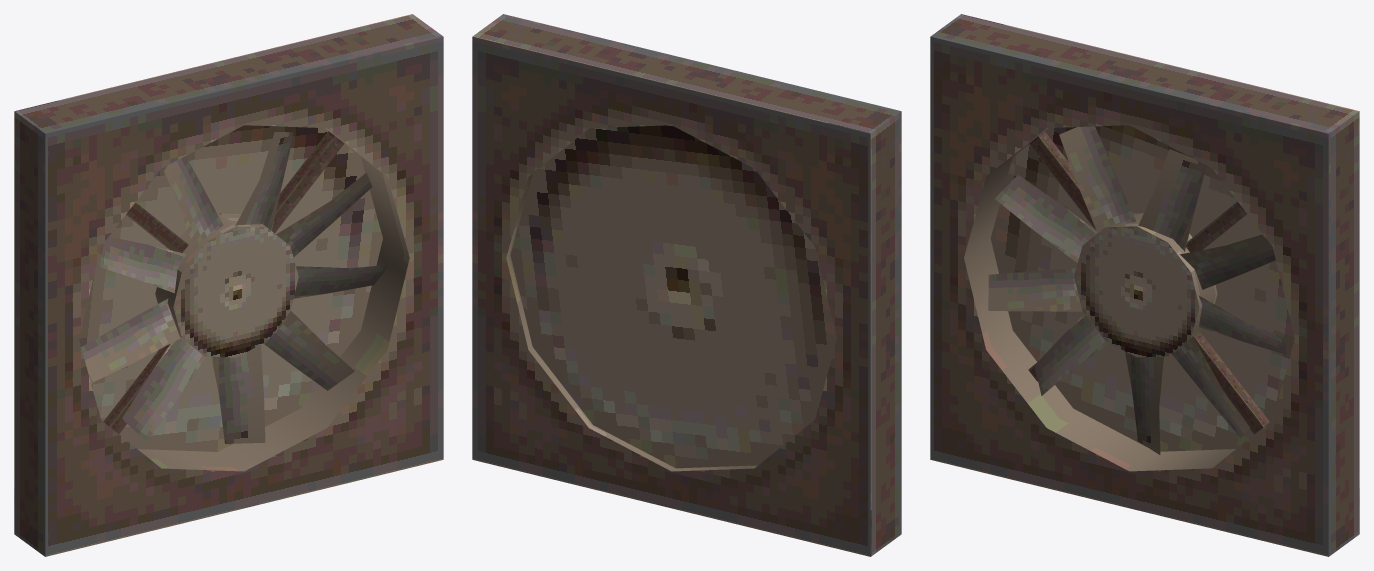
Rendered from ventilation_2.glb.
3 renders of one model, left to right at view 1: azimuth 30°, elevation 25°; view 2: azimuth 150°, elevation 25°; view 3: azimuth 330°, elevation 25°, orthographic.
Parts seen in each view (by area): view 1: Ventilation_2, Ventilation_2_blades; view 2: Ventilation_2; view 3: Ventilation_2, Ventilation_2_blades.
Part boxes in pixels (x1,y1,x2,y2): Ventilation_2: (14,14,443,556); Ventilation_2_blades: (81,132,389,443); Ventilation_2: (472,14,901,556); Ventilation_2: (930,14,1359,556); Ventilation_2_blades: (988,126,1286,454).
Size of the model in its own units: 1.63 by 1.65 by 0.2188.
1 material, 1 textured.
